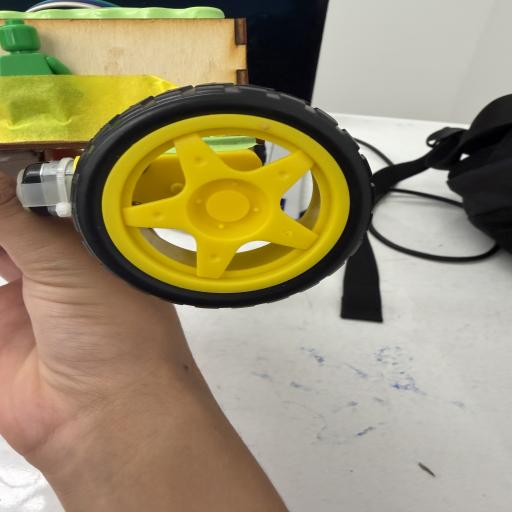Green-Lego: (0, 19, 71, 78)
